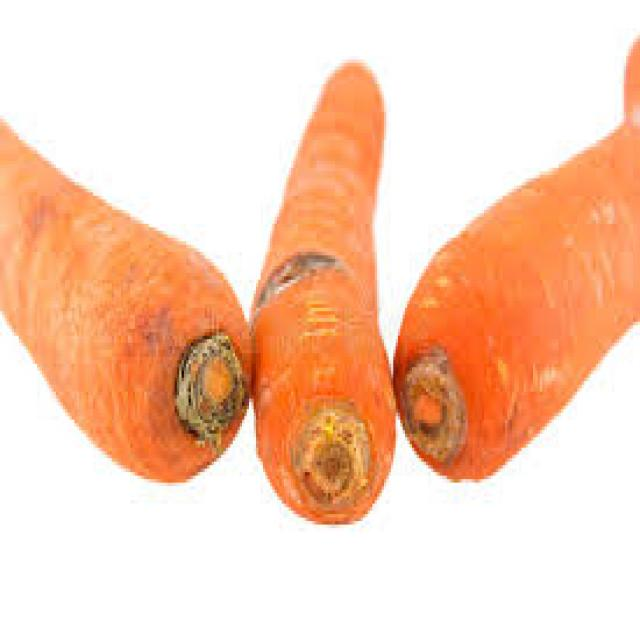Stale_Carrot: (0, 120, 251, 480), (253, 66, 395, 521)
